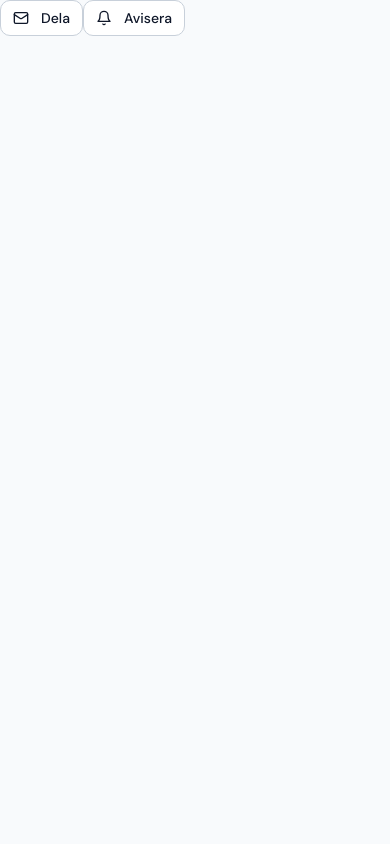
Test: assignment email UI › keeps the draft and request ID when retrying, and rejects legacy pretend success
Later steps or results of the test are not shown.
Click the button "Dela". click: (42, 18)
box: [0,0,83,36]
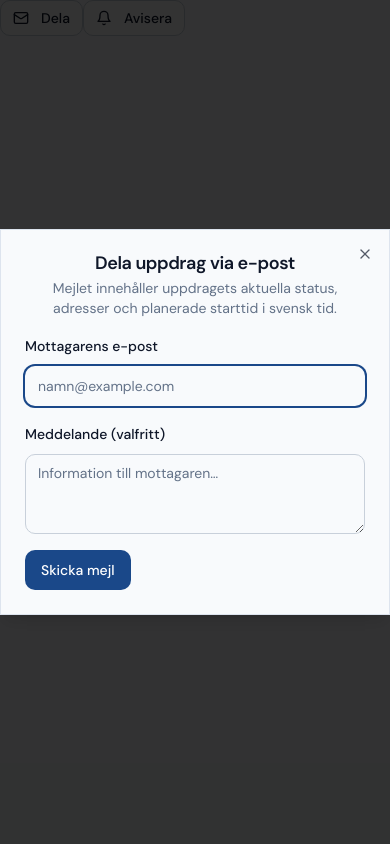
Type "receiver@example.test" into the field labelled "Mottagarens e-post". click: (195, 386)
box: [25,366,365,406]
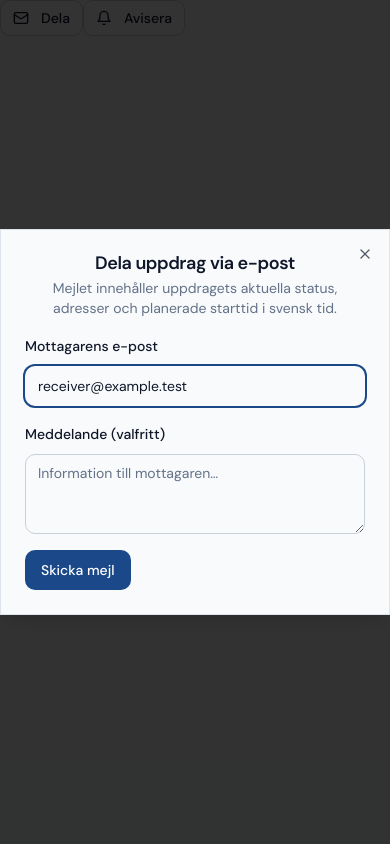
Type "Behåll mitt meddelande" into the text box labelled "Meddelande (valfritt)". click: (195, 494)
box: [25,454,365,534]
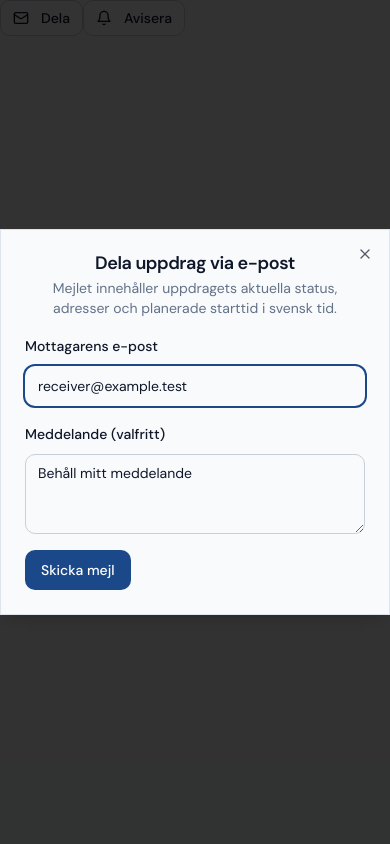
Click the button "Skicka mejl". click: (78, 570)
box: [25,550,130,590]
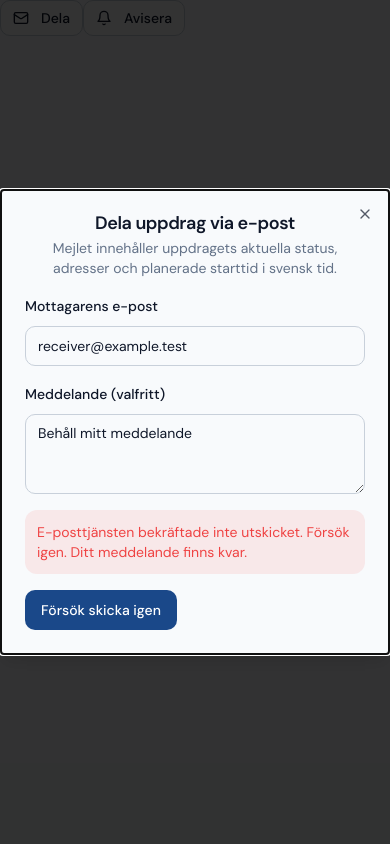
Expected: the message is shown, [25,510,365,574]
